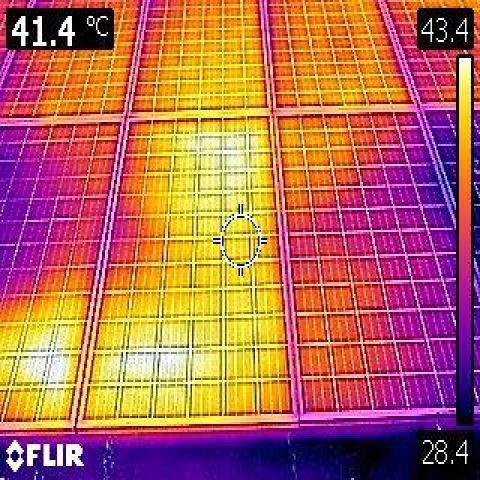fault: (127, 352, 155, 380), (159, 353, 186, 379), (18, 356, 43, 384), (51, 355, 75, 381), (200, 134, 222, 152), (226, 134, 246, 151), (227, 154, 247, 168)
